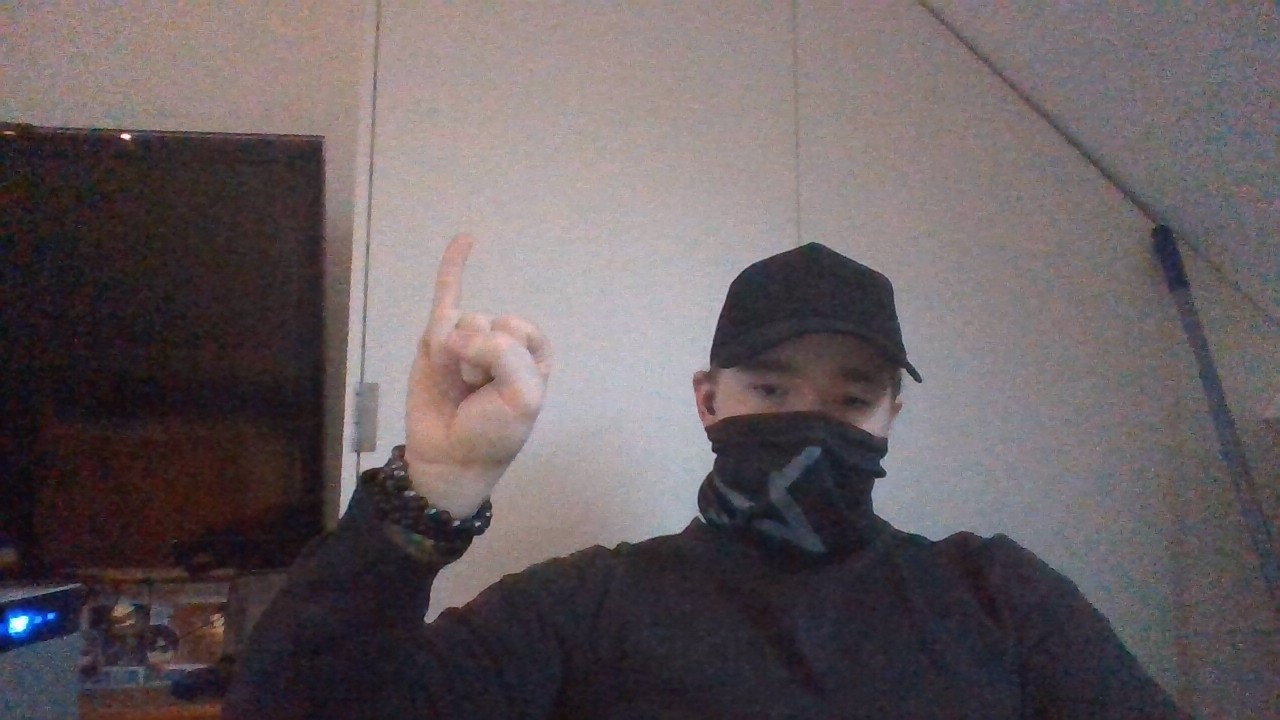I" Sign language: (400, 229, 556, 480)
